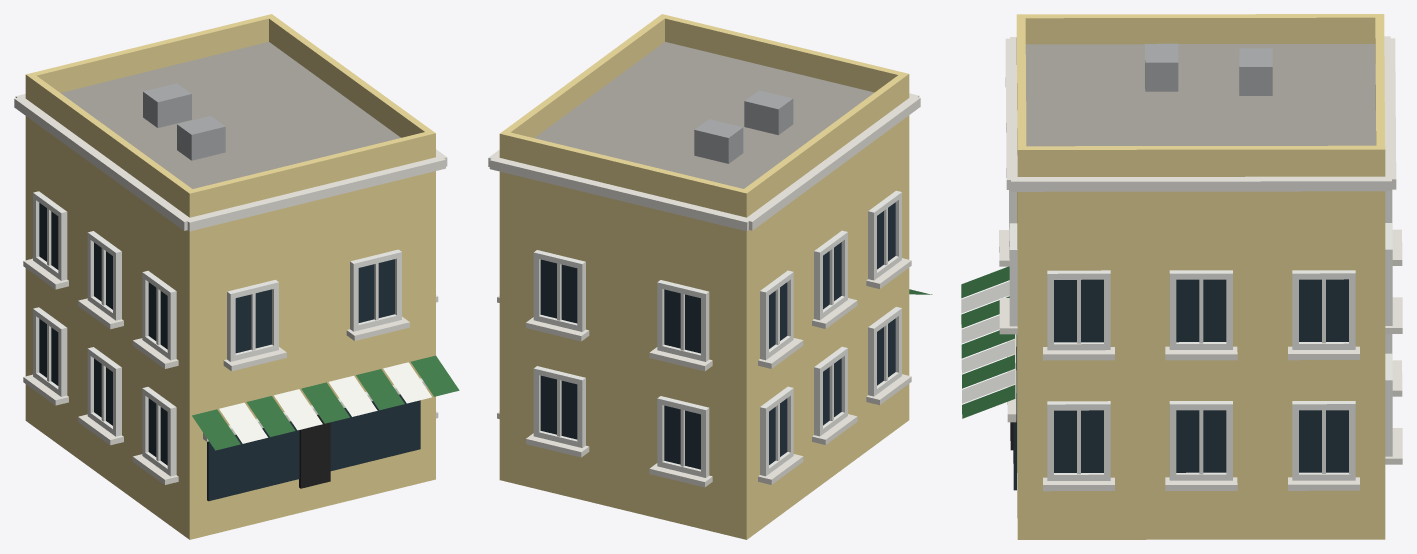
3 views of the same model, side by side, from view 1: azimuth 30°, elevation 25°; view 2: azimuth 150°, elevation 25°; view 3: azimuth 270°, elevation 25° (orthographic). The views are drawn at different scales.
Visible parts, largest first — view 1: b9374; view 2: b9374; view 3: b9374.
Boxes of the visible parts, x1,y1,x2,y2 form: b9374: (14, 14, 459, 539); b9374: (488, 14, 932, 539); b9374: (961, 14, 1402, 539).
Size of the model in its own units: 3220 by 3910 by 3981.
